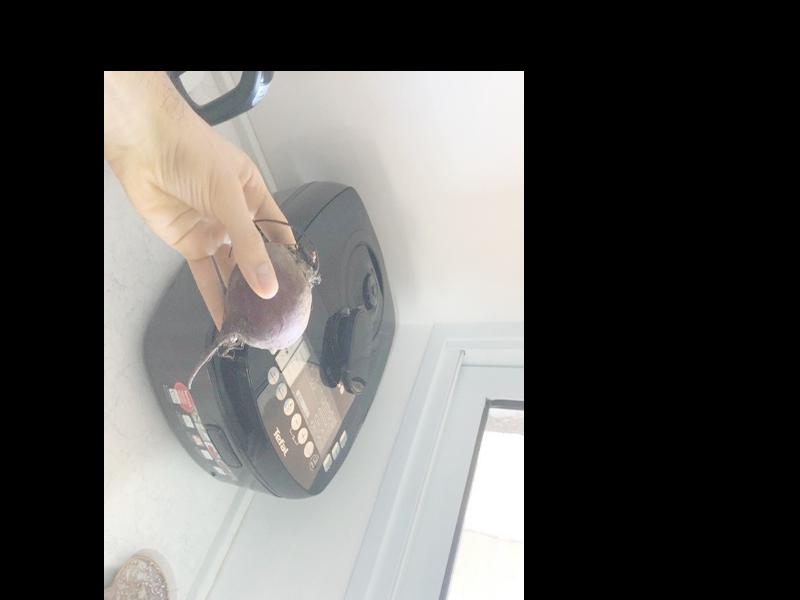Beet: (185, 220, 320, 388)
